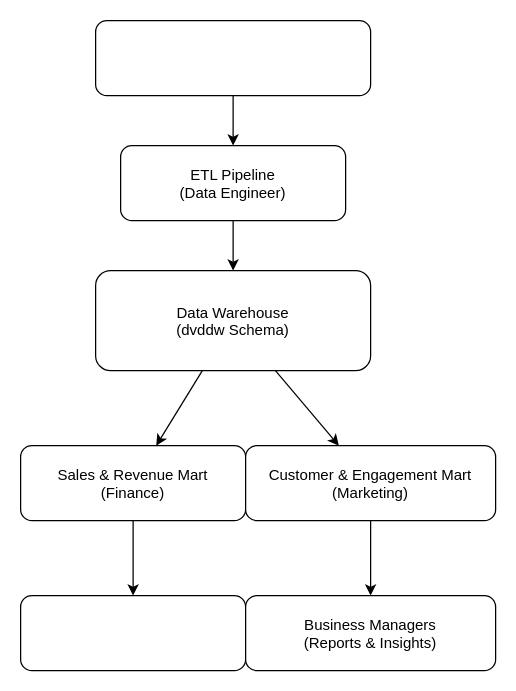
Image size: 516x691. Some labels were removed from this diagram. The centre of each missing label's shape, as x and y in pixels:
"Data Analysts (BI & Reporting)" goes at point (132, 632).
"Operational Databases (Rental, Payment, Inventory)" goes at point (232, 57).
